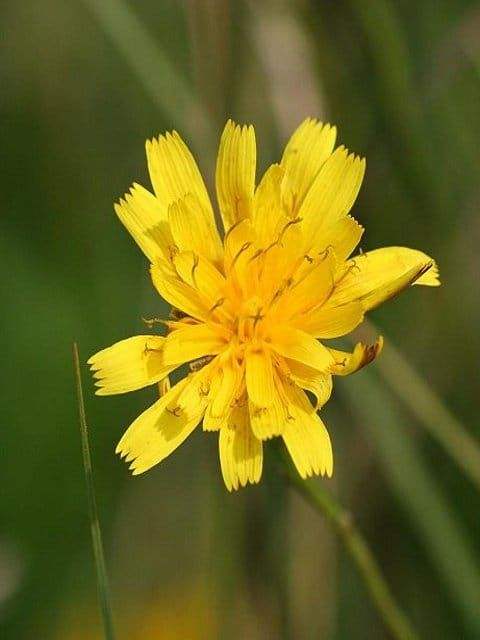dandelion: (86, 122, 425, 477)
